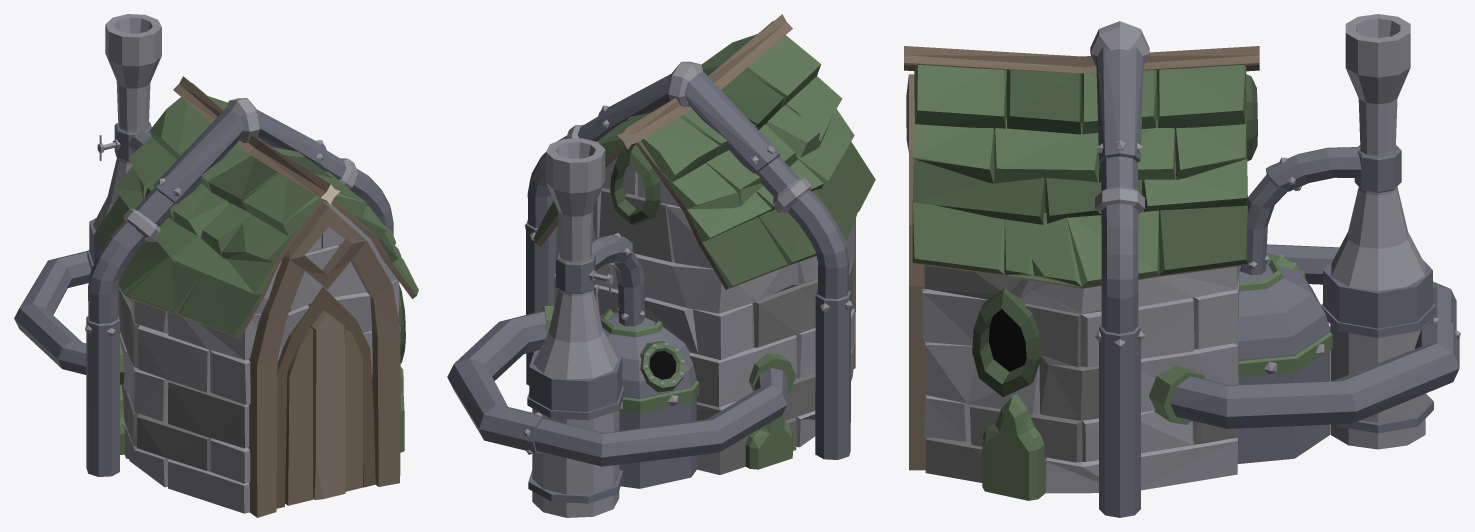
Rendered from _alchemist_s_house.fbx.
3 renders of one model, left to right at view 1: azimuth 30°, elevation 25°; view 2: azimuth 150°, elevation 25°; view 3: azimuth 270°, elevation 25°, orthographic. The views are drawn at different scales.
Visible parts, largest first — view 1: alchemist_house; view 2: alchemist_house; view 3: alchemist_house.
Part boxes in pixels (x1,y1,x2,y2): alchemist_house: (14,14,418,517); alchemist_house: (447,14,875,517); alchemist_house: (904,14,1460,517).
Size of the model in its own units: 531 by 548 by 683.
